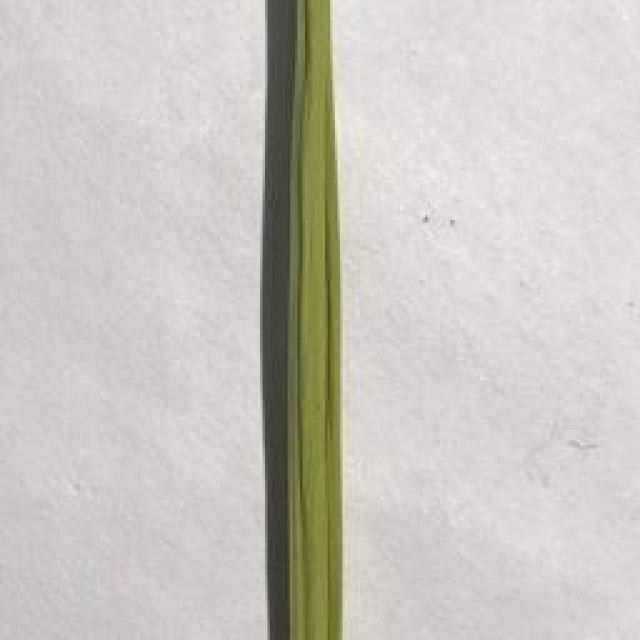Healthy-Plant: (282, 3, 348, 640)
